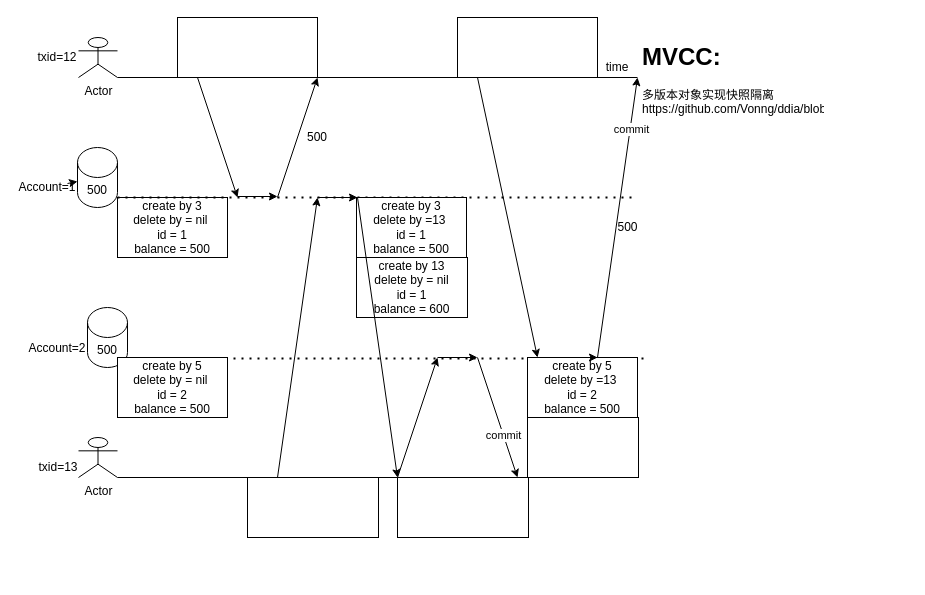
This 925x595 diagram has some shape labels left out. Here are the shapes that lost their labels. From the top down, the centre of each, then its label:
(x=247, y=47): Select balance from Accouns where id =1
(x=527, y=47): Select balance from Accouns where id =2
(x=582, y=447): create by 13 delete by = nil id = 2 balance = 400
(x=312, y=507): update balance set balance + 100 from Accounts where id = 1
(x=462, y=507): update balance set balance - 100 from Accounts where id = 2
